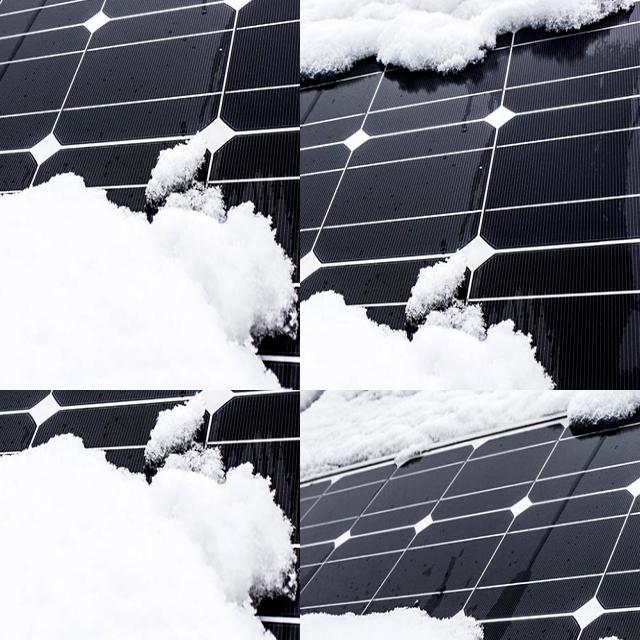dust: (88, 148, 300, 305), (0, 173, 130, 390), (165, 334, 300, 390), (138, 468, 208, 562), (82, 339, 156, 390), (53, 390, 108, 447), (0, 577, 39, 640), (0, 390, 61, 428), (0, 532, 33, 596), (0, 399, 23, 490), (0, 434, 20, 521), (0, 390, 20, 428), (0, 390, 35, 411)
panel: (378, 390, 519, 444), (411, 592, 540, 640), (300, 414, 393, 480), (300, 579, 398, 640), (543, 390, 640, 435), (300, 156, 318, 242), (300, 90, 318, 164), (300, 13, 310, 100), (300, 0, 322, 32), (300, 0, 320, 15), (300, 0, 321, 12), (300, 0, 311, 13)
